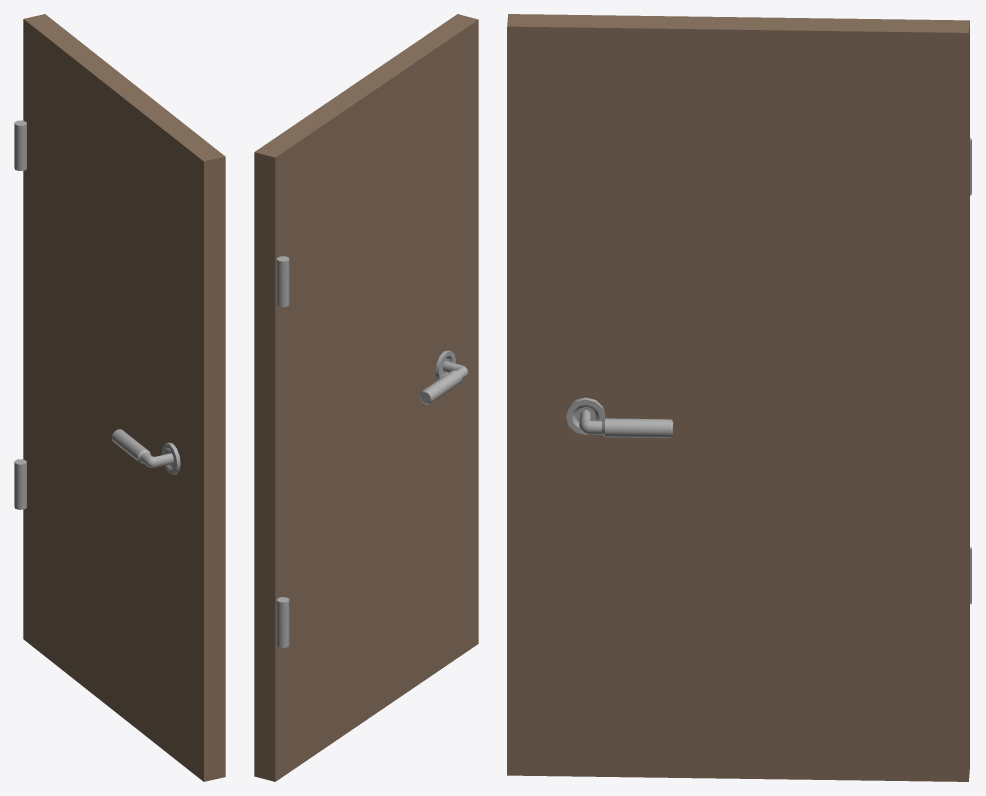
Rendered from door_toilet.fbx.
3 views of the same model, side by side, from view 1: azimuth 30°, elevation 25°; view 2: azimuth 150°, elevation 25°; view 3: azimuth 270°, elevation 25° (orthographic). The views are drawn at different scales.
Visible parts, largest first — view 1: door_toilet, Cylinder.001; view 2: door_toilet, Cylinder.001; view 3: door_toilet, Cylinder.001.
Boxes of the visible parts, <box> form: door_toilet: <box>14,14,225,781</box>; Cylinder.001: <box>111,429,173,468</box>; door_toilet: <box>254,14,478,781</box>; Cylinder.001: <box>420,361,468,404</box>; door_toilet: <box>507,14,971,781</box>; Cylinder.001: <box>579,410,673,437</box>.
Size of the model in its own units: 33.16 by 253 by 142.
